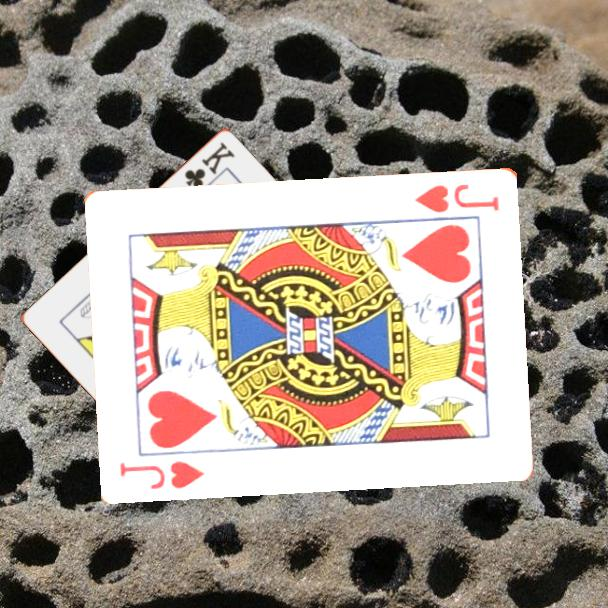c13: (181, 138, 238, 191)
h11: (117, 457, 208, 492), (412, 180, 502, 215)
